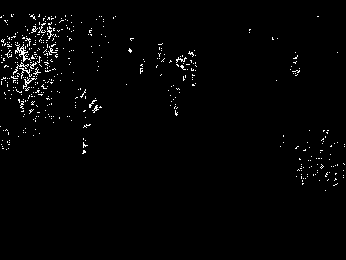person: (75, 87, 98, 155)
